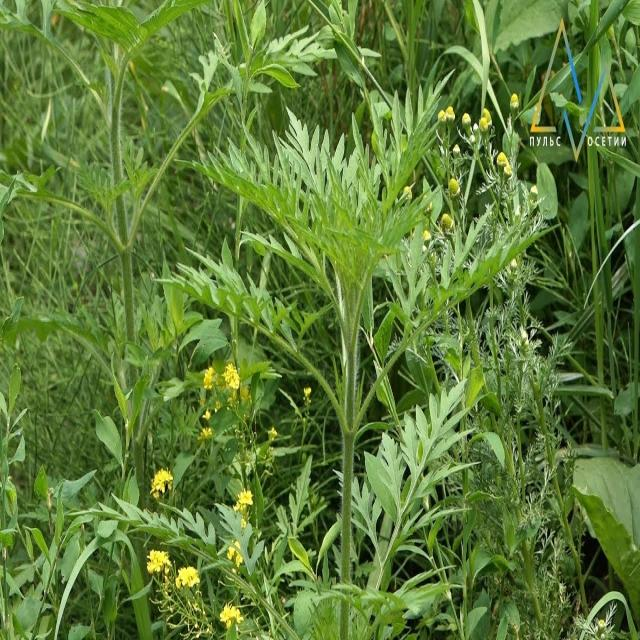ambrosia: (221, 81, 444, 318)
